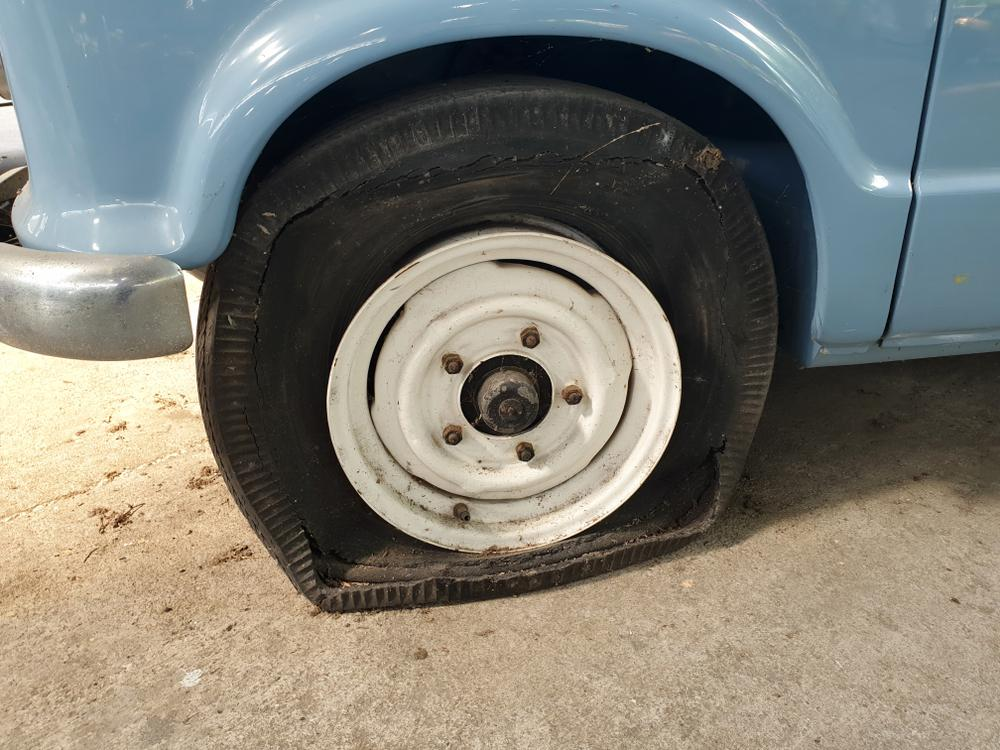tire flat: (193, 71, 781, 611)
